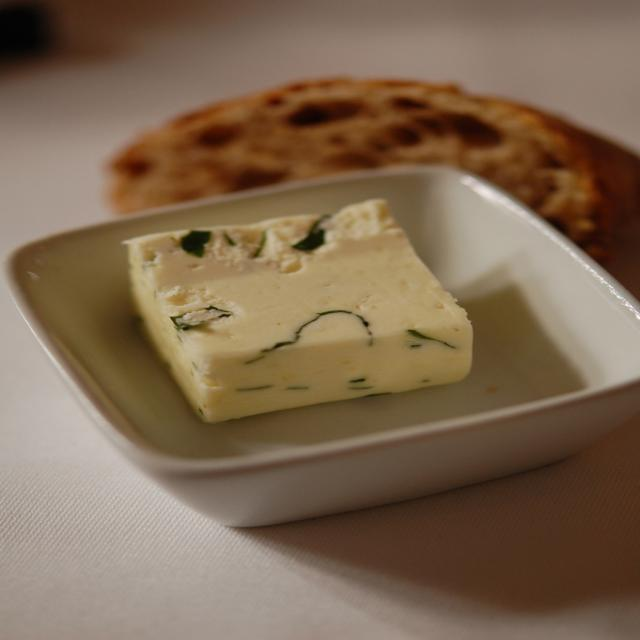Cheese: (115, 195, 479, 425)
